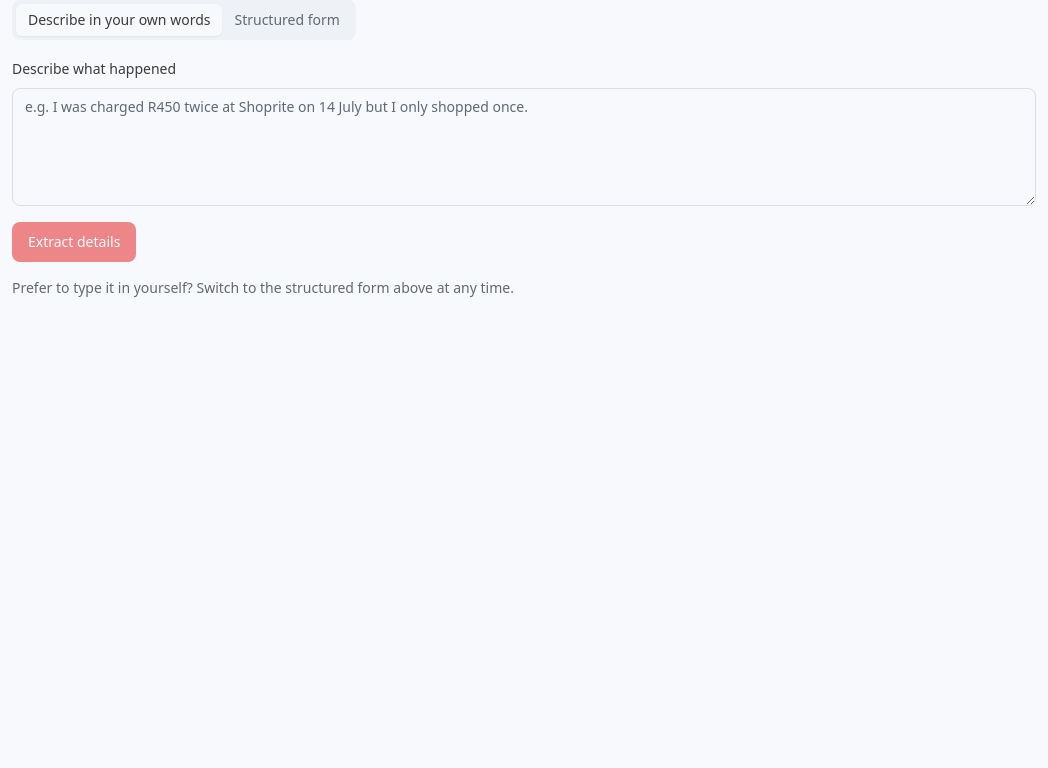
Test: DisputeEntry (DisputeForm) › keeps submit disabled until required fields are populated
Step 1. Click the tab "Structured form" → (287, 20), box [222,4,352,36]
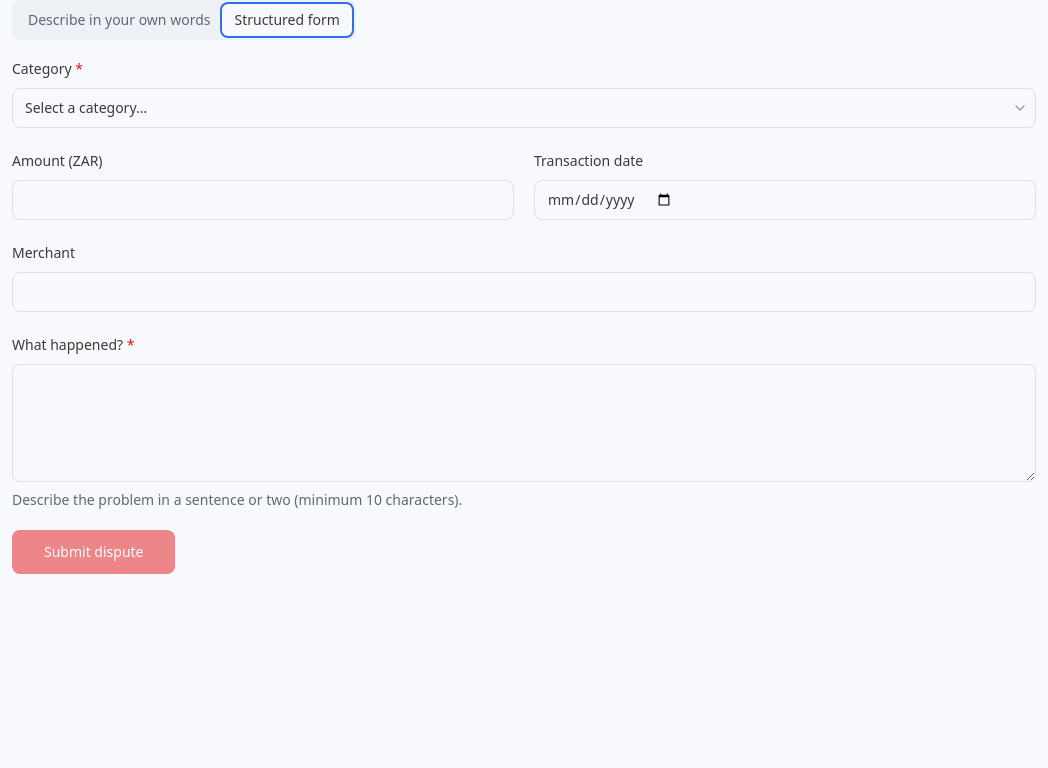
Expected: the button "Submit dispute" is disabled, [12,530,176,574]
Step 2. Select "Duplicate charge" in the dropdown labelled "Category *" → (524, 108), box [12,88,1036,128]
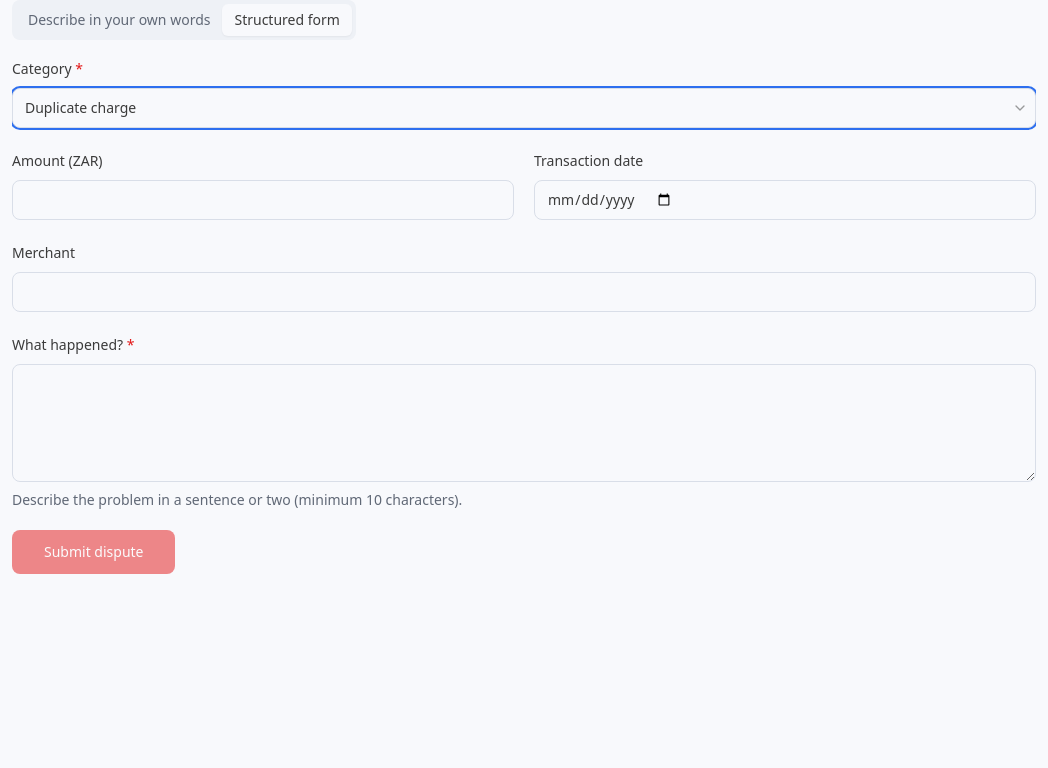
Step 3. Type "Charged twice for one purchase." into the text box labelled "What happened? *" → (524, 423), box [12,364,1036,482]
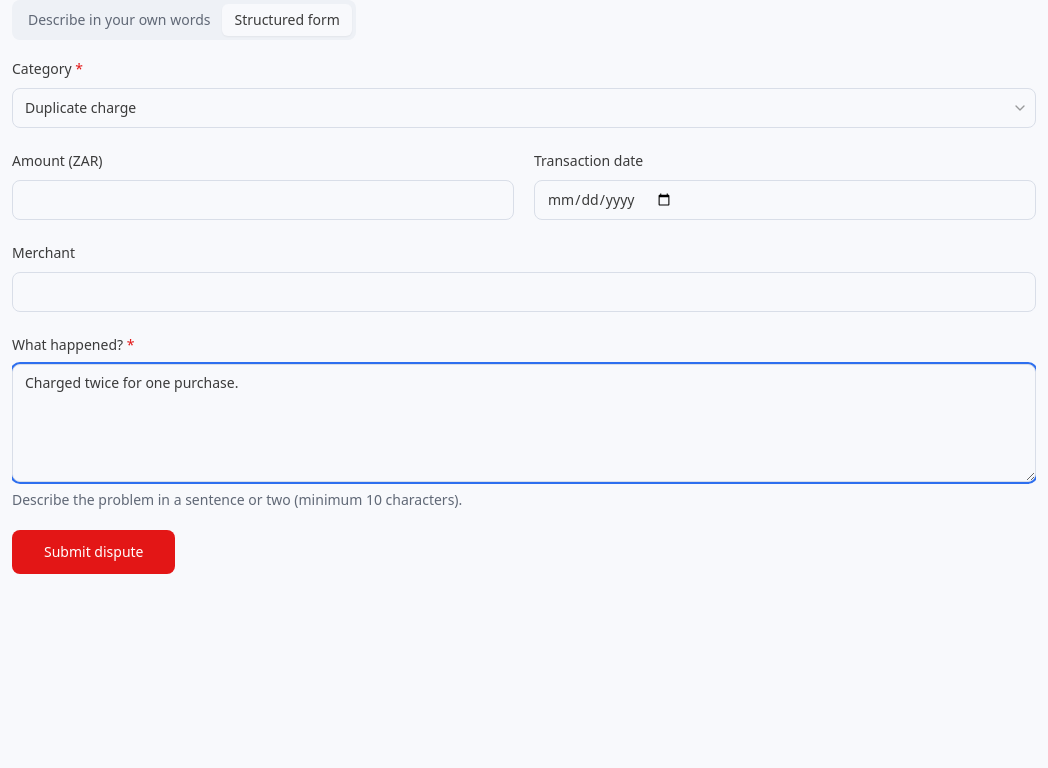
Expected: the button "Submit dispute" is enabled, [12,530,176,574]
